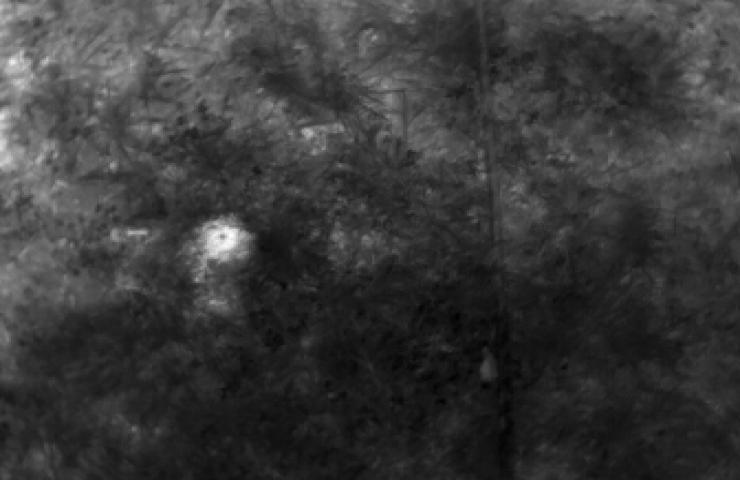landmines: (195, 215, 250, 261)
